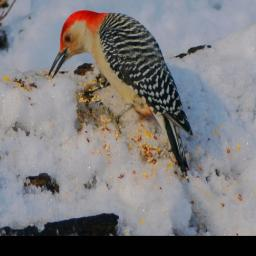Woodpecker: (48, 9, 197, 183)
